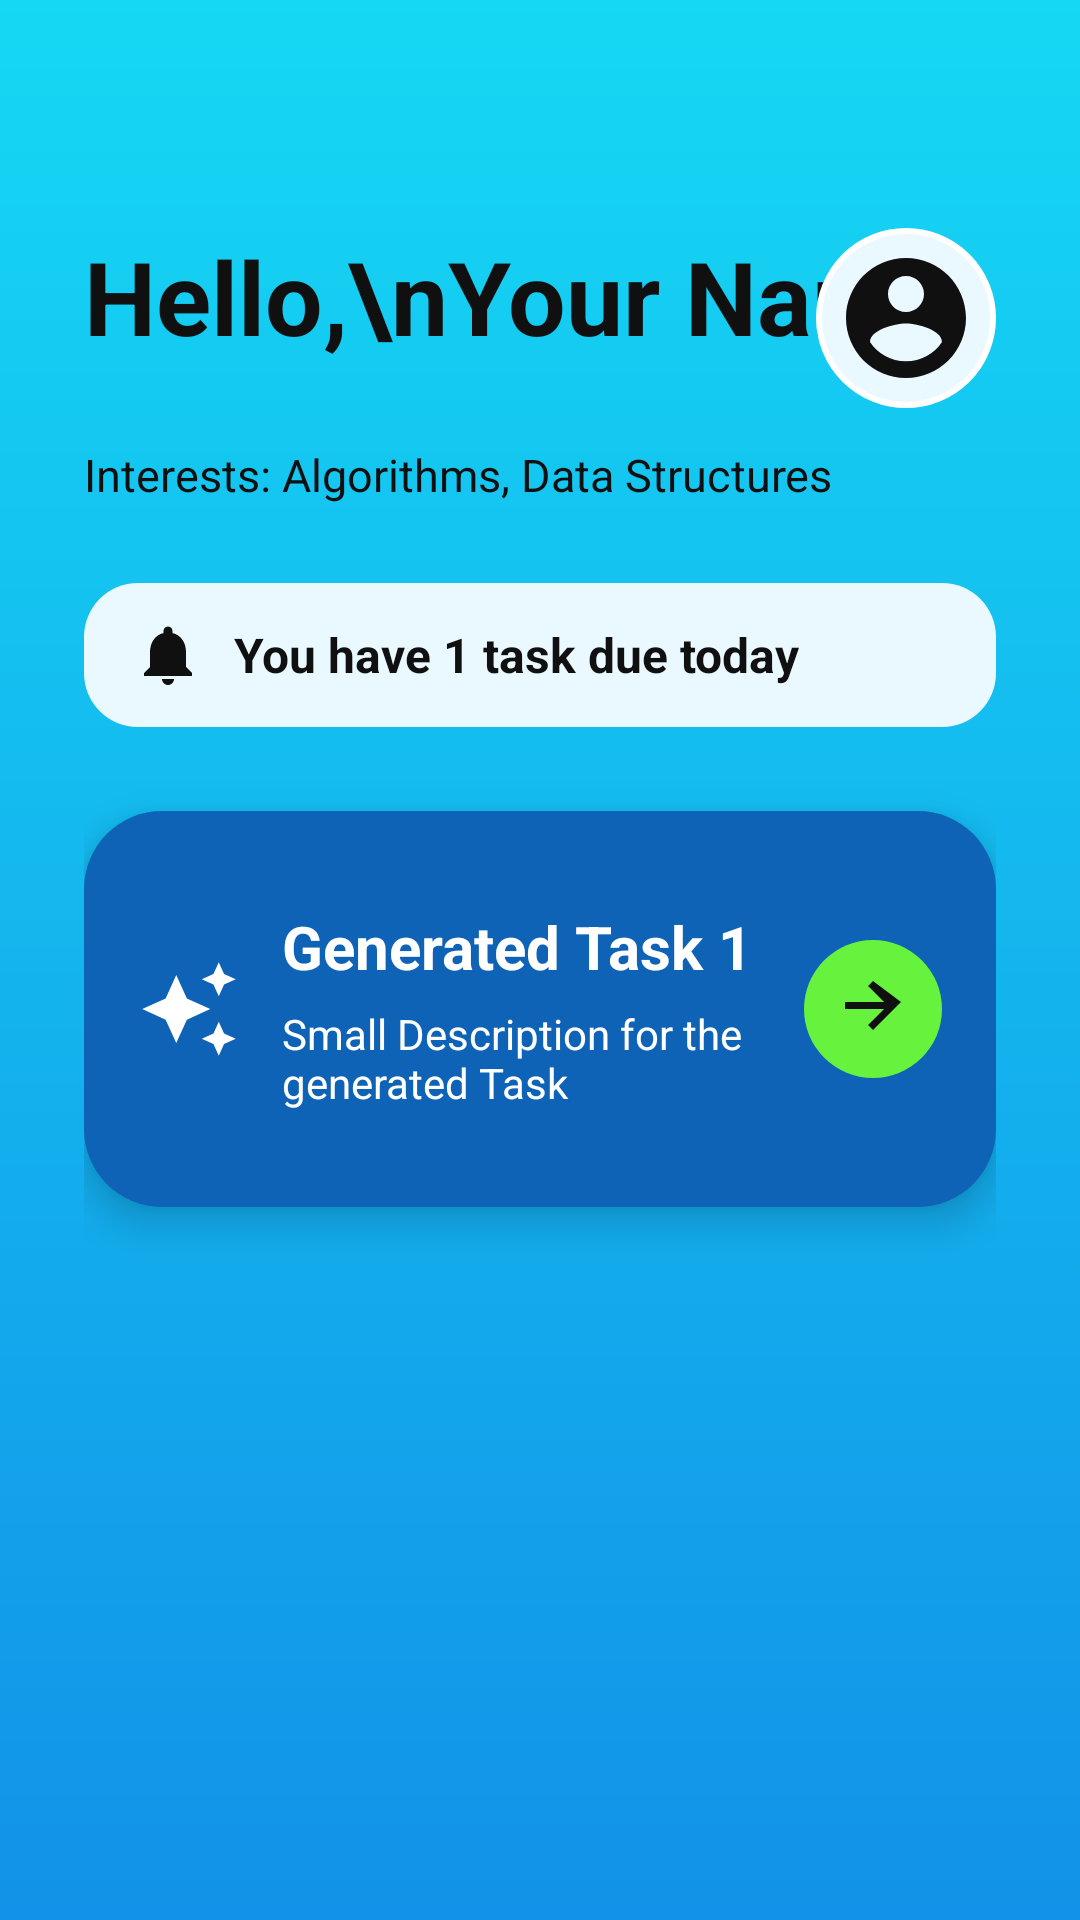

Named icons in this screenshot (1080 × 1920) and their bounding boxes, {"left": x1, "top": y1, "right": x2, "bottom": y2}:
account circle: {"left": 816, "top": 228, "right": 996, "bottom": 408}
auto awesome: {"left": 142, "top": 962, "right": 236, "bottom": 1056}
notifications: {"left": 144, "top": 626, "right": 192, "bottom": 685}
Open task: {"left": 804, "top": 940, "right": 942, "bottom": 1078}
